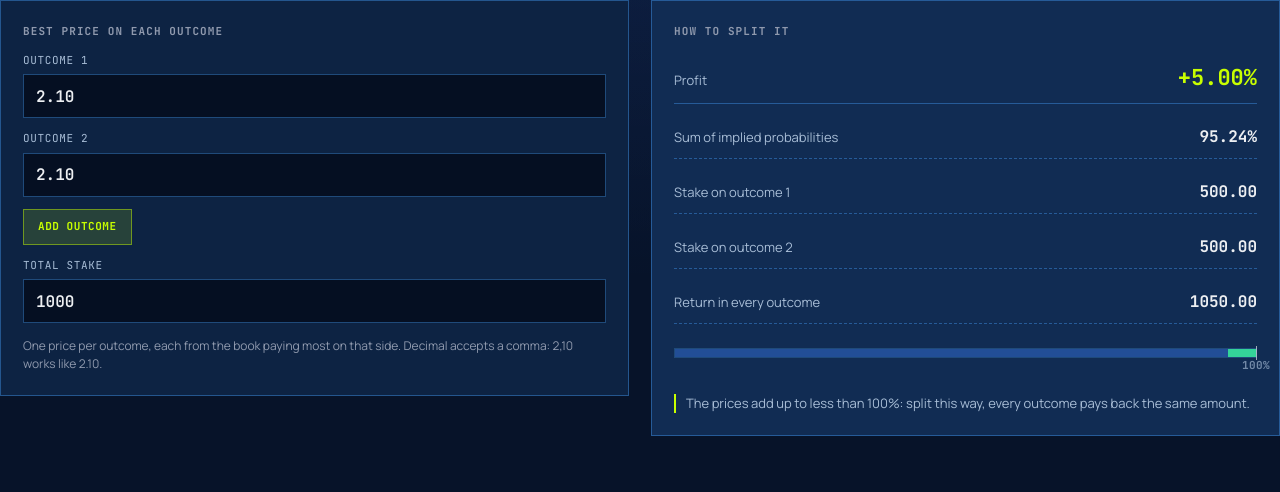
Test: arbitrage calculator › aggiunge e toglie un terzo esito
The image size is (1280, 492).
Click the button "Add outcome" at x=77, y=226, box [23,208,132,244]
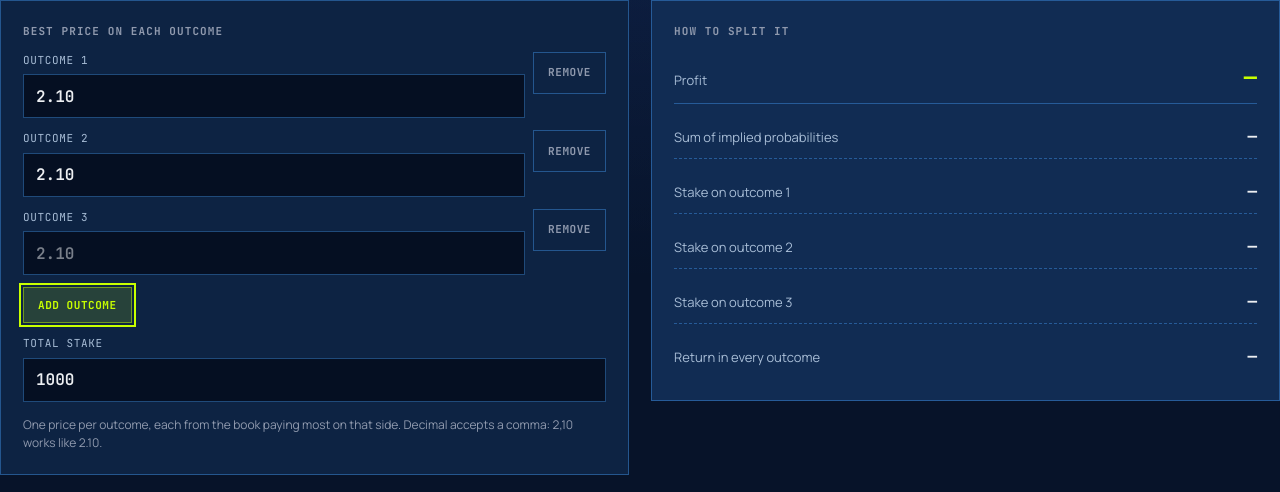
Check: the field labelled "Outcome 3" is shown, box [24,232,524,274]
Click the 3rd button "Remove" at x=570, y=230, box [533,208,606,250]
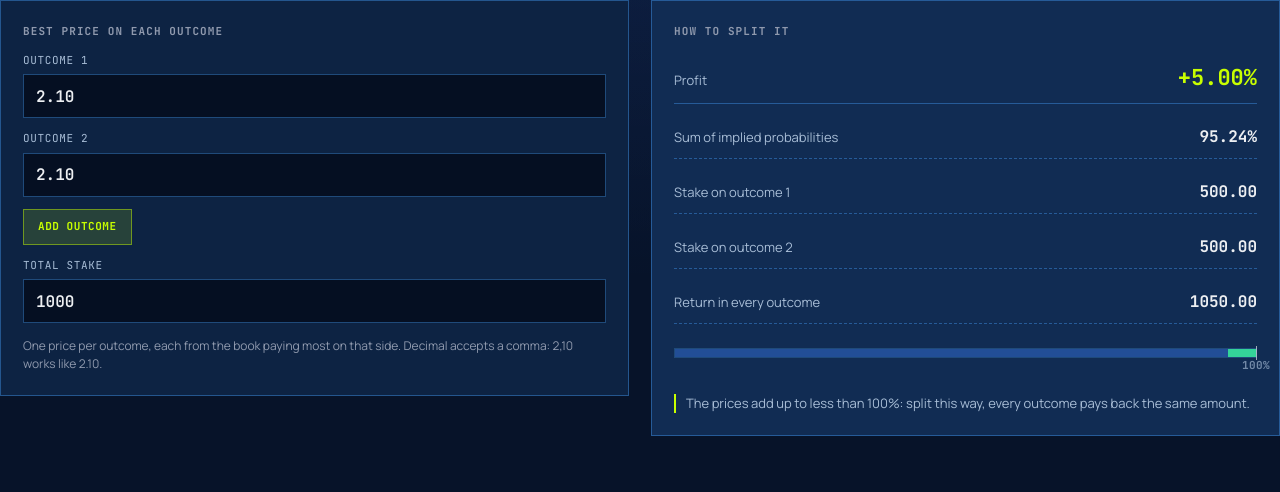
Check: the text labelled "Outcome 3" is gone
Check: the text with test id "out-arb-profit" reads "+5.00%", box [1178,62,1257,92]
